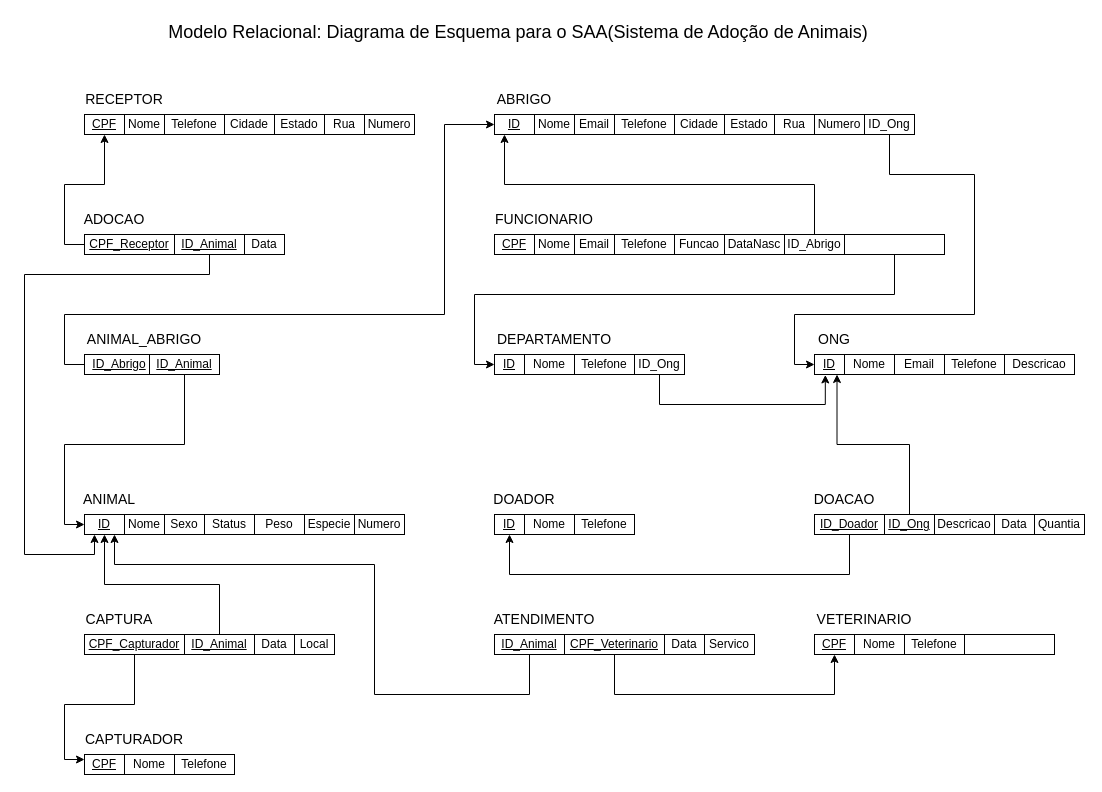
The diagram is 1102 pixels wide and 792 high, and some of its shapes have lost their labels. The centre of each missing label's shape, as x and y in pixels:
"Especialidade" belongs at point (1009, 644).
"ID_Departamento" belongs at point (894, 244).
